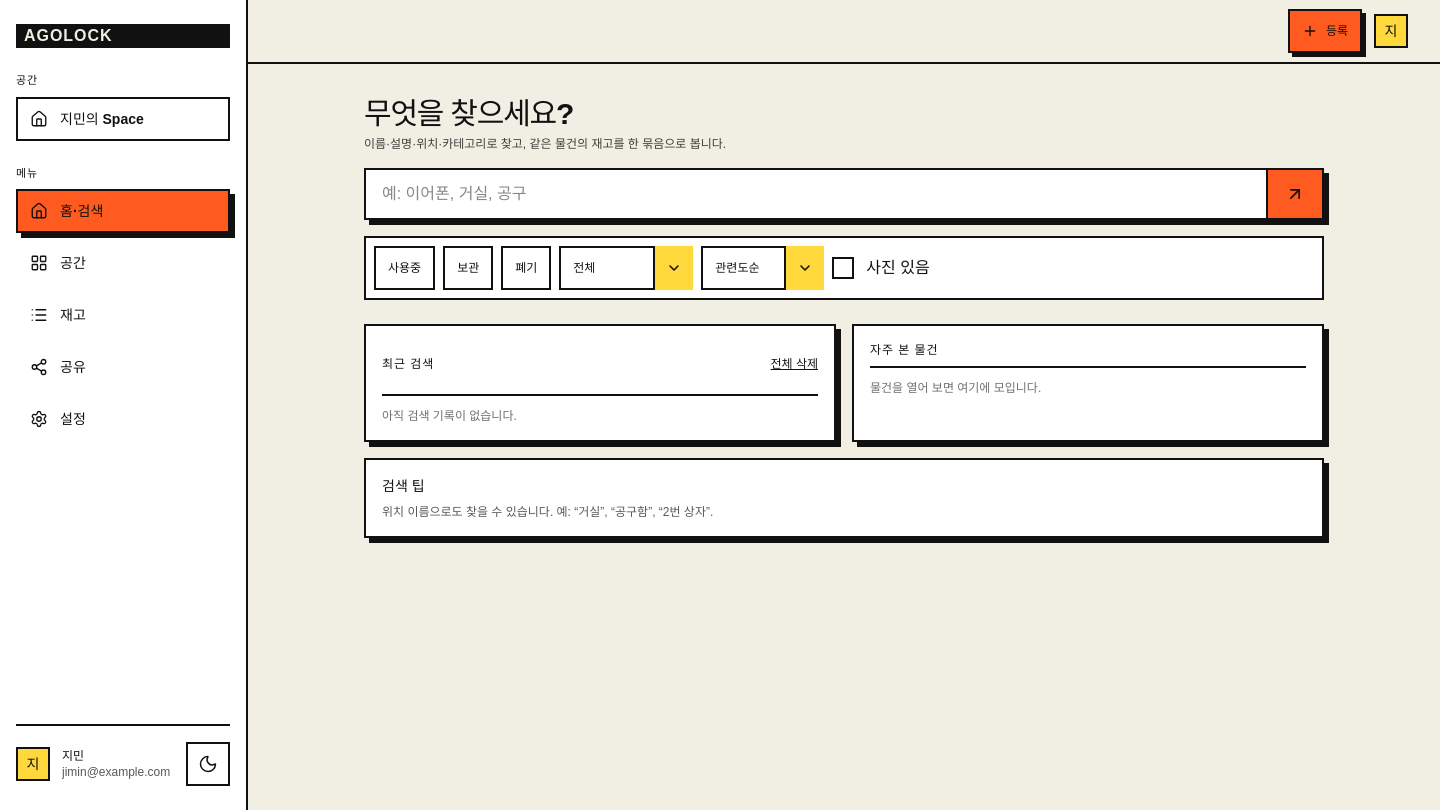
it: 검색 › 검색어 없이 공유 범위와 사진 필터를 적용하고 초기화한다
Select "공유받은 것만" in the dropdown named "검색 범위" at coordinates (626, 268), box [559, 246, 693, 290]
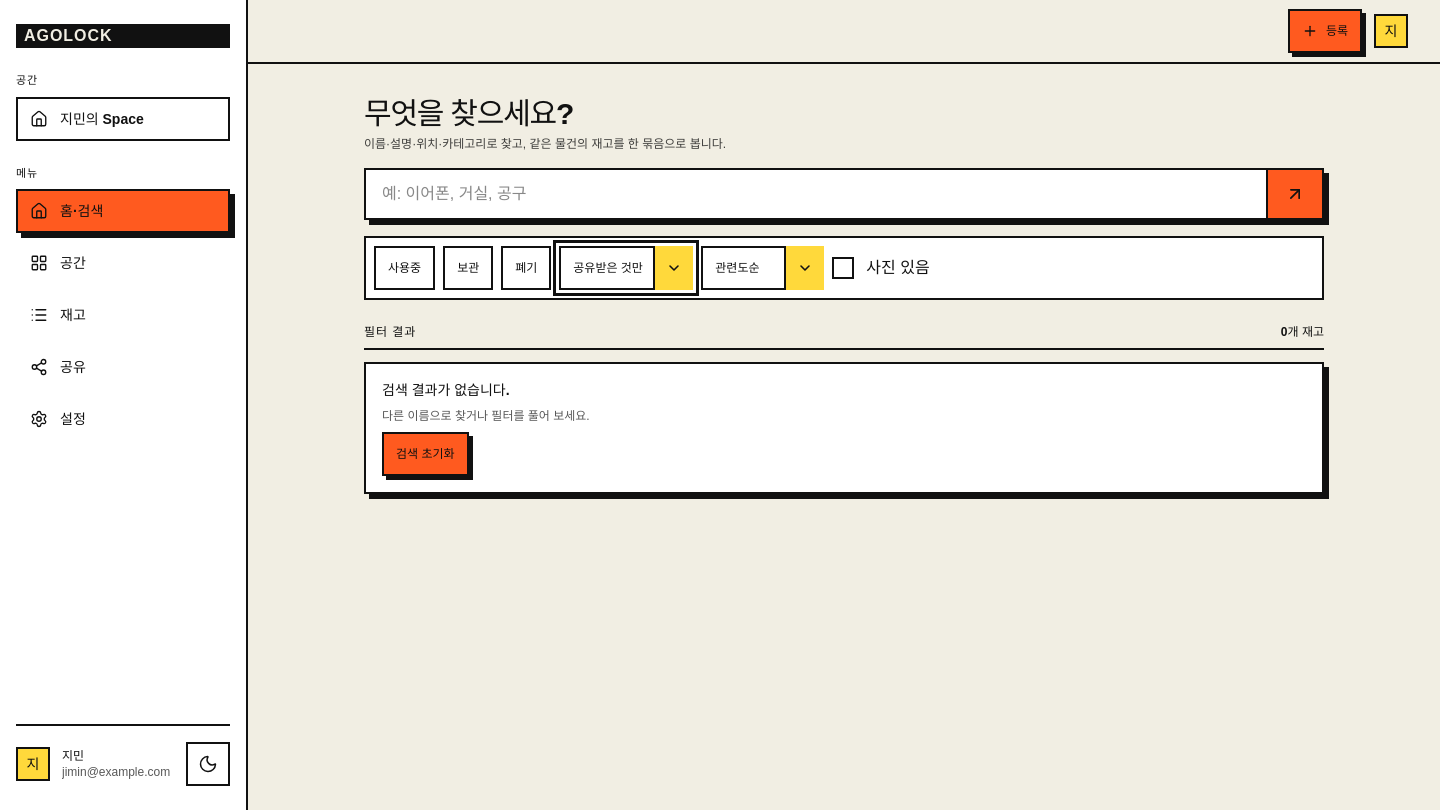
Click the checkbox labelled "사진 있음" at coordinates (881, 268), box [832, 257, 930, 279]
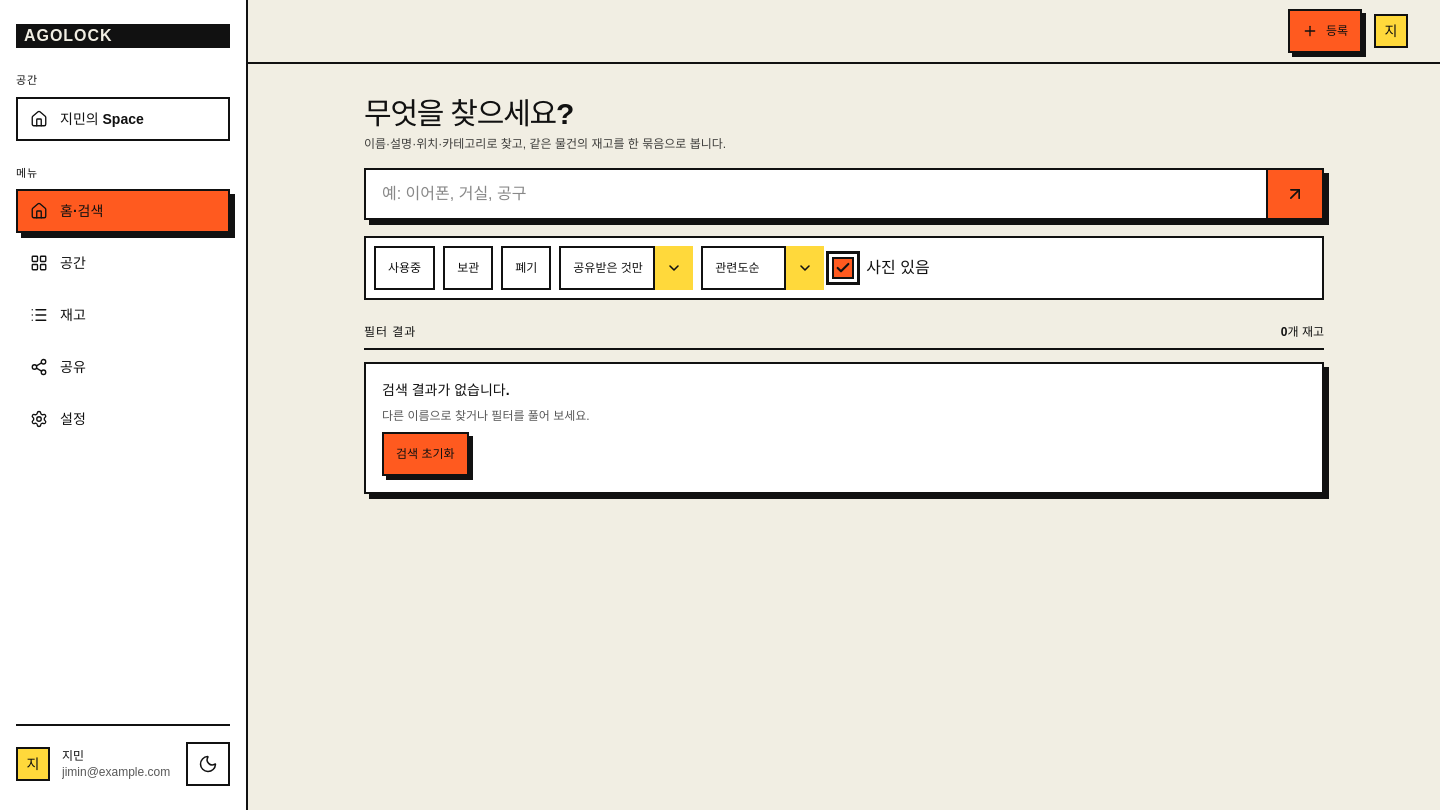
Click the button "검색 초기화" at coordinates (425, 454), box [382, 432, 468, 476]
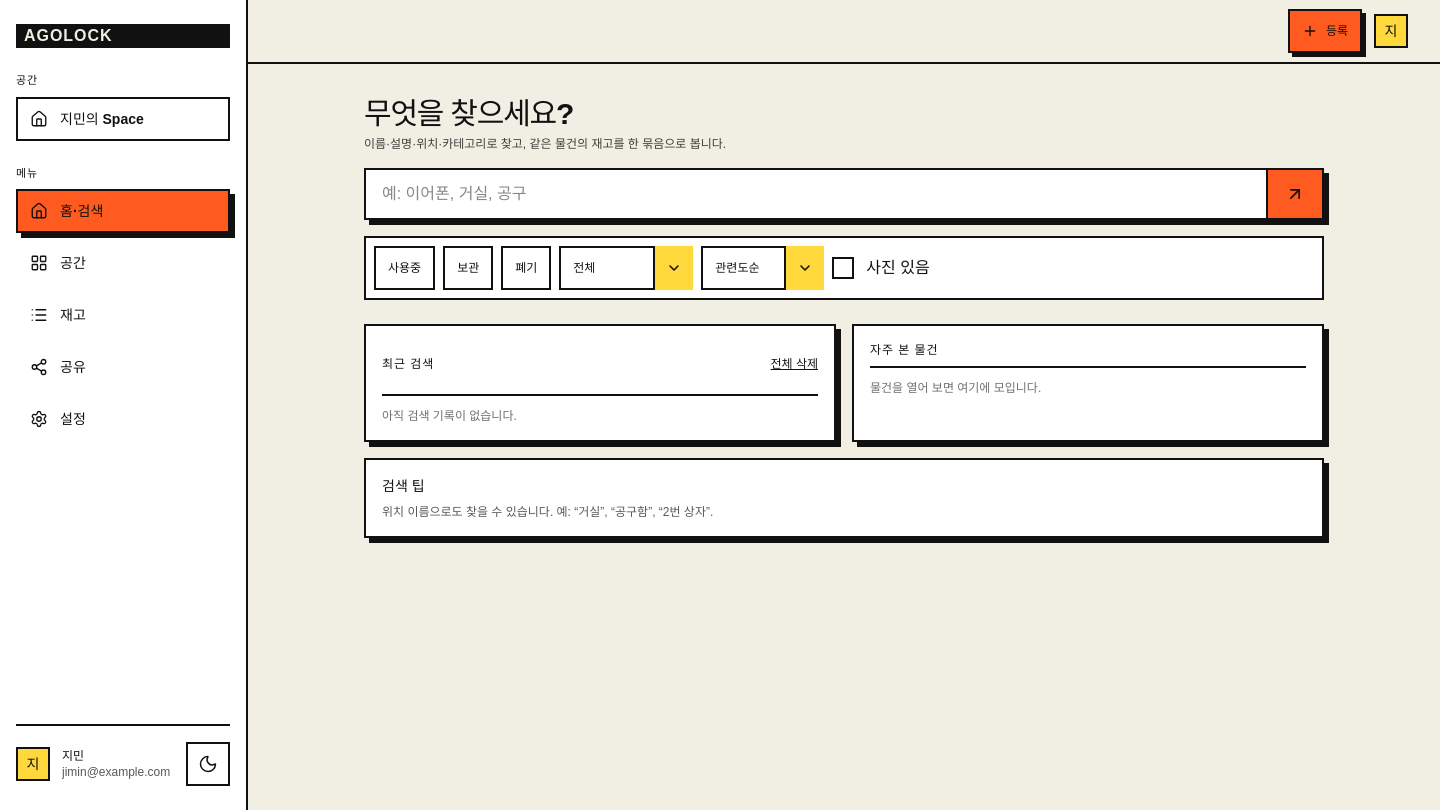
Check: the checkbox labelled "사진 있음" is not checked, box [832, 257, 930, 279]
Check: the text "필터 결과" is gone
